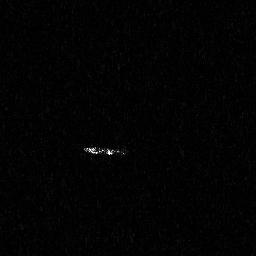ship: (82, 143, 128, 158)
